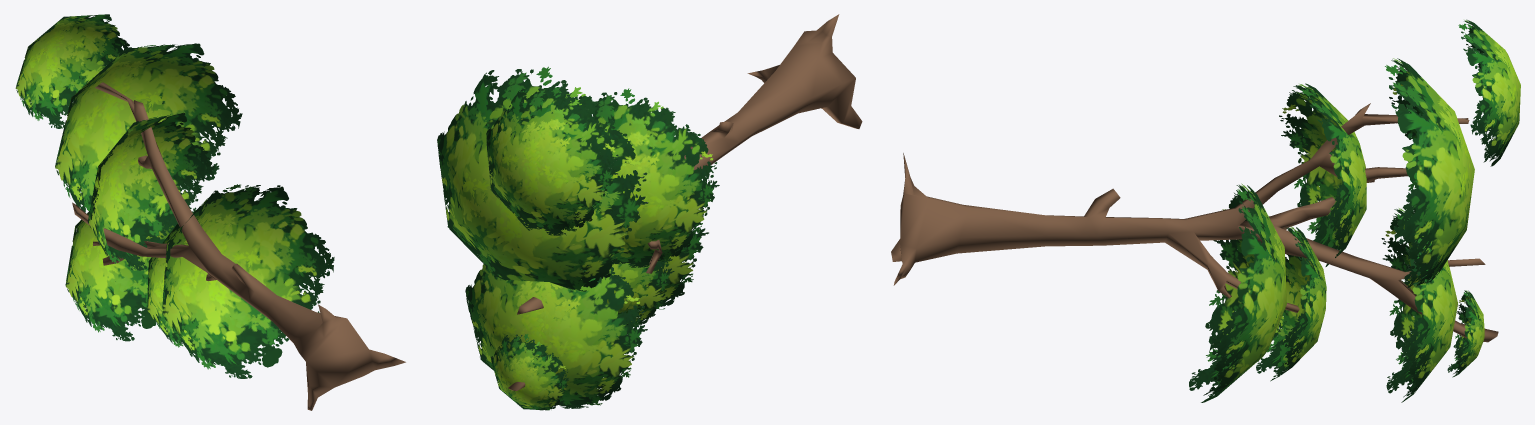
Rendered from TreeLittle.fbx.
The picture shows the model from 3 angles, left to right: view 1: azimuth 30°, elevation 25°; view 2: azimuth 150°, elevation 25°; view 3: azimuth 270°, elevation 25°; orthographic projection. The views are drawn at different scales.
Visible parts, largest first — view 1: TreeLittle; view 2: TreeLittle; view 3: TreeLittle.
Part boxes in pixels (left/top/right/bottom): TreeLittle: left=15, top=14, right=405, bottom=410; TreeLittle: left=437, top=14, right=862, bottom=410; TreeLittle: left=891, top=19, right=1520, bottom=402.
Size of the model in its own units: 945 by 1317 by 2057.
